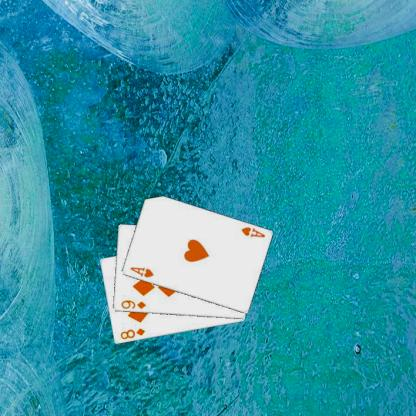8D: (118, 326, 146, 341)
9D: (118, 298, 147, 310)
AH: (239, 224, 266, 238), (128, 265, 154, 279)
